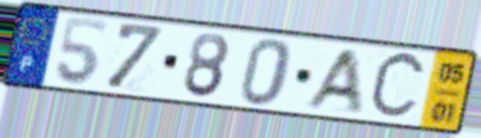0: (237, 36, 294, 109)
5: (56, 13, 112, 89)
7: (107, 20, 166, 92)
8: (179, 30, 232, 100)
A: (299, 48, 365, 113)
C: (365, 48, 430, 124)
